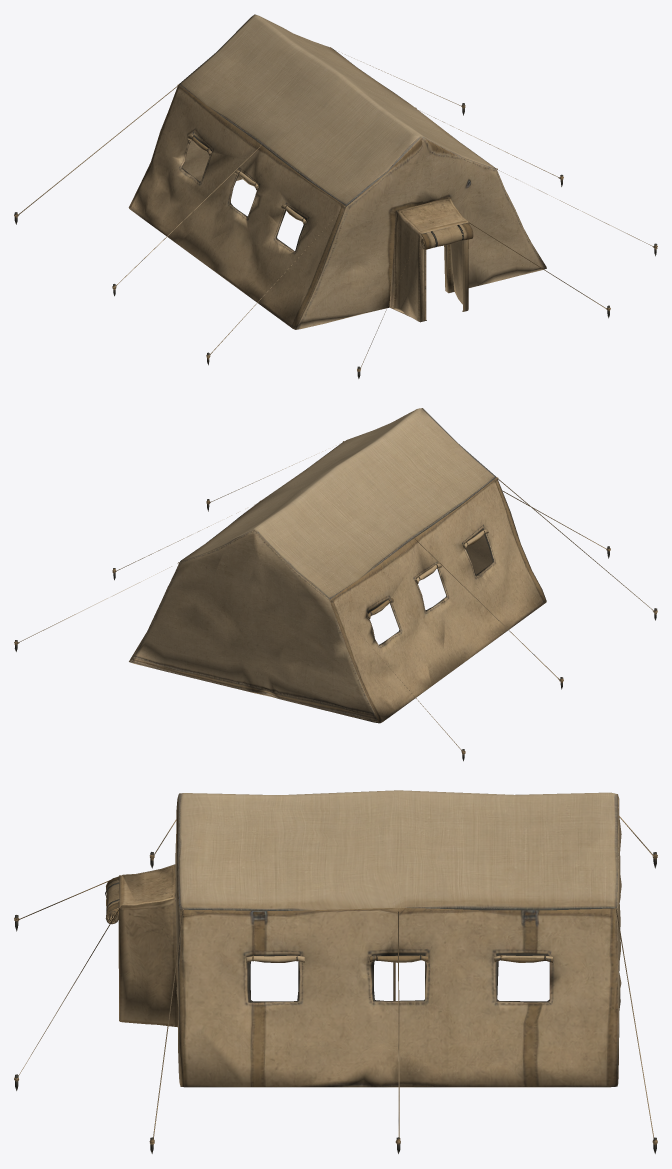
Rendered from tent_01_degen.fbx.
The picture shows the model from 3 angles, top to bottom: view 1: azimuth 30°, elevation 25°; view 2: azimuth 150°, elevation 25°; view 3: azimuth 270°, elevation 25°; orthographic projection. The views are drawn at different scales.
Parts seen in each view (by area): view 1: Military_tent.002; view 2: Military_tent.002; view 3: Military_tent.002.
Boxes of the visible parts, box(x1,y1,x2,y2) form: Military_tent.002: box(14, 14, 657, 378); Military_tent.002: box(14, 408, 657, 761); Military_tent.002: box(14, 790, 657, 1153).
Size of the model in its own units: 1117 by 400 by 1054.
Materials: 1 (1 with a texture image).
